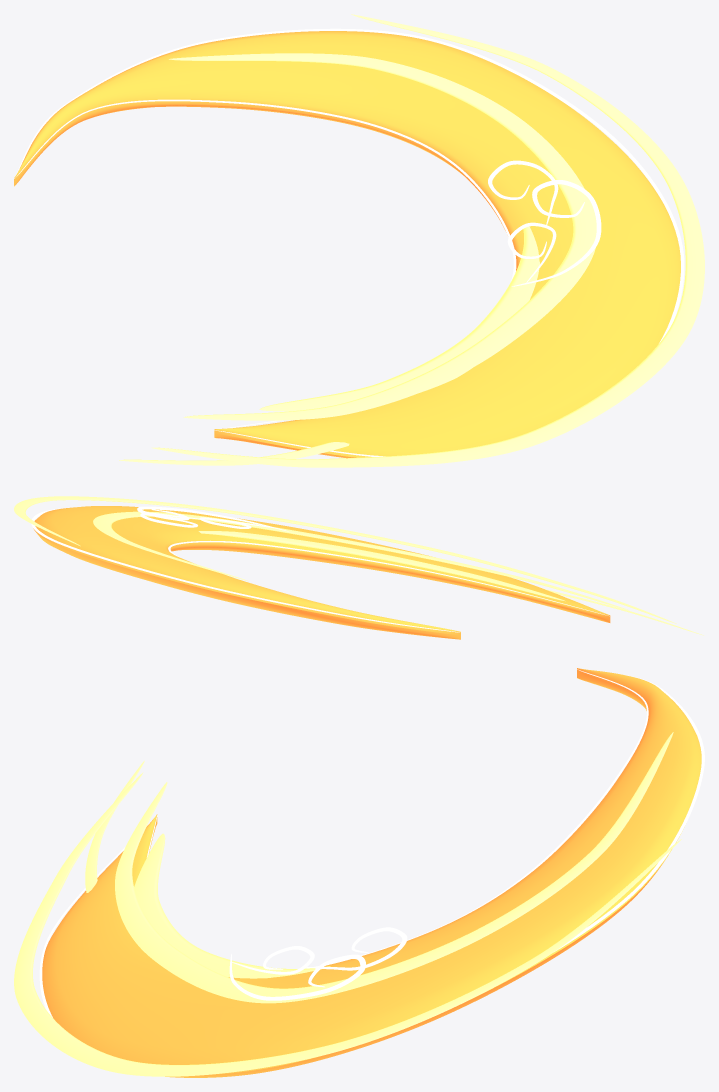
Rendered from SM_DBA_AttackSlash_V2.fbx.
3 views of the same model, one above another, from view 1: azimuth 30°, elevation 25°; view 2: azimuth 150°, elevation 25°; view 3: azimuth 270°, elevation 25° (orthographic). The views are drawn at different scales.
Parts seen in each view (by area): view 1: SM_DBA_AttackSlash_V2; view 2: SM_DBA_AttackSlash_V2; view 3: SM_DBA_AttackSlash_V2.
Part boxes in pixels (<box>): SM_DBA_AttackSlash_V2: <box>14,14,704,467</box>; SM_DBA_AttackSlash_V2: <box>14,496,703,639</box>; SM_DBA_AttackSlash_V2: <box>14,668,704,1077</box>.
Bounding box in the file's own units: 611 × 494 × 180.
